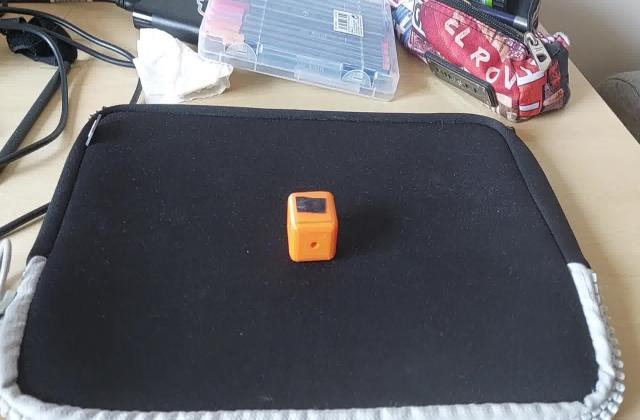black: (293, 195, 332, 218)
cube: (284, 189, 340, 264)
